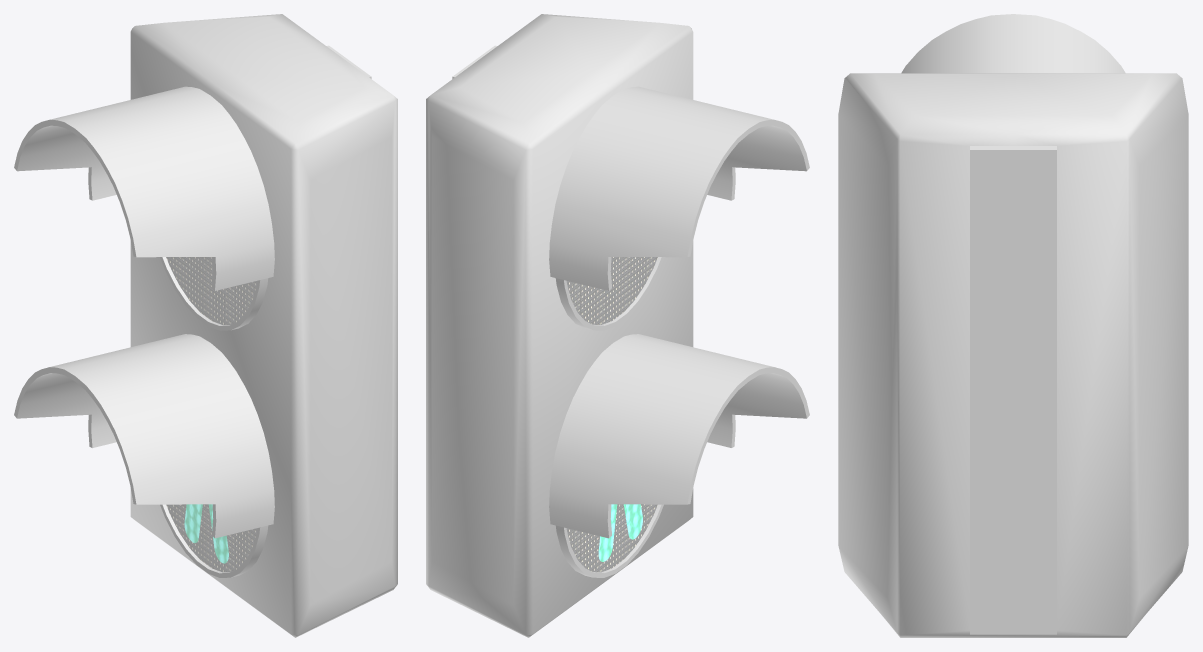
The model's file is 竖排人行灯_GreenLight.glb.
The picture shows the model from 3 angles, left to right: view 1: azimuth 30°, elevation 25°; view 2: azimuth 150°, elevation 25°; view 3: azimuth 270°, elevation 25°; orthographic projection.
Parts seen in each view (by area): view 1: 竖排人行灯_GreenLight; view 2: 竖排人行灯_GreenLight; view 3: 竖排人行灯_GreenLight.
Boxes of the visible parts, x1,y1,x2,y2 form: 竖排人行灯_GreenLight: [14, 14, 397, 637]; 竖排人行灯_GreenLight: [426, 14, 809, 637]; 竖排人行灯_GreenLight: [838, 14, 1188, 637].
Size of the model in its own units: 0.6001 by 1.06 by 0.65.
Materials: 3 (2 with a texture image).
